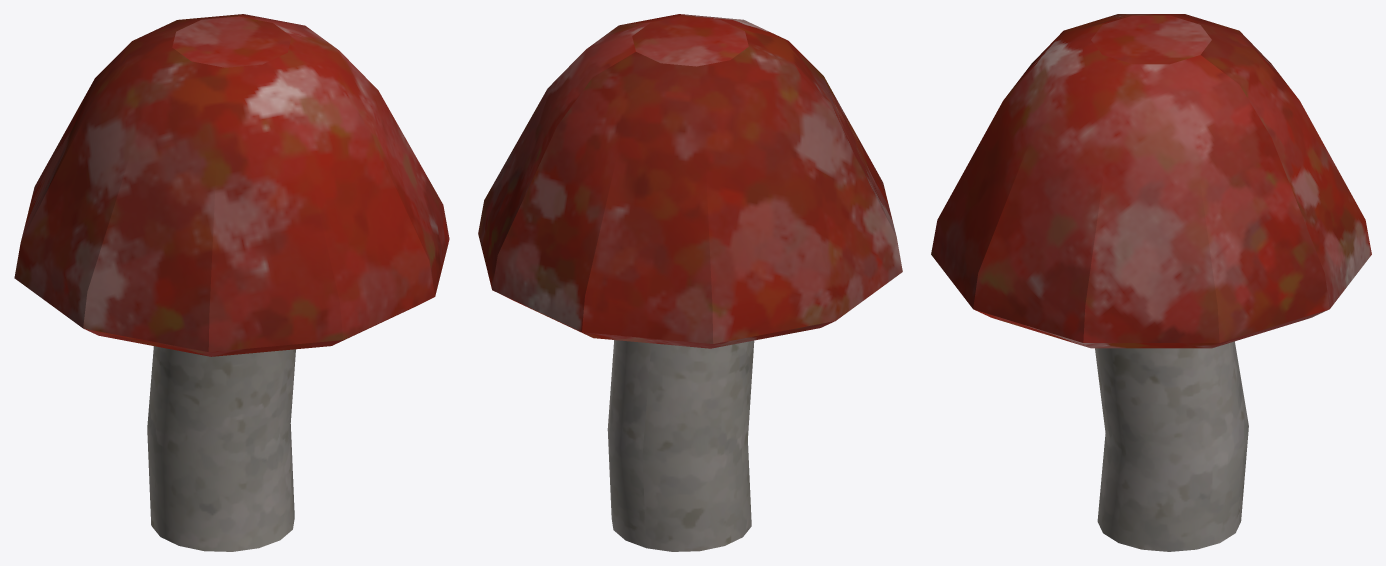
File: Sm_Fungus1.fbx
The picture shows the model from 3 angles, left to right: view 1: azimuth 30°, elevation 25°; view 2: azimuth 150°, elevation 25°; view 3: azimuth 270°, elevation 25°; orthographic projection. The views are drawn at different scales.
Parts seen in each view (by area): view 1: Sm_Fungus1; view 2: Sm_Fungus1; view 3: Sm_Fungus1.
Boxes of the visible parts, x1,y1,x2,y2 form: Sm_Fungus1: (14, 14, 449, 551); Sm_Fungus1: (478, 14, 902, 551); Sm_Fungus1: (931, 14, 1371, 551).
Size of the model in its own units: 10.9 by 13.82 by 11.46.
